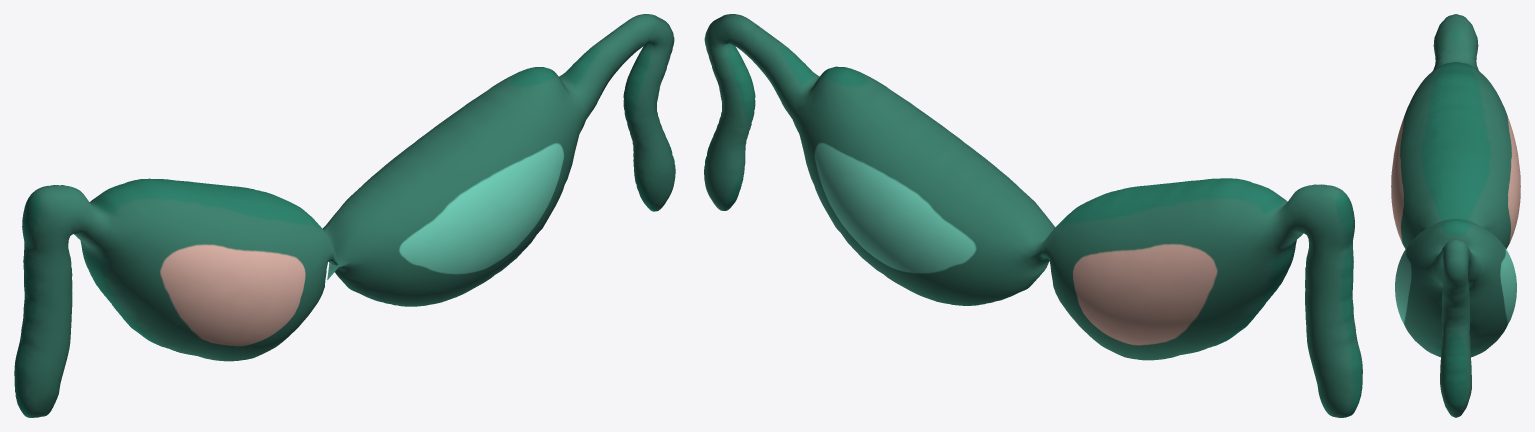
Rendered from Green17.glb.
The picture shows the model from 3 angles, left to right: view 1: azimuth 30°, elevation 25°; view 2: azimuth 150°, elevation 25°; view 3: azimuth 270°, elevation 25°; orthographic projection. The views are drawn at different scales.
Bounding box in the file's own units: 8.11 × 3.01 × 1.62.
1 material, 1 textured.
